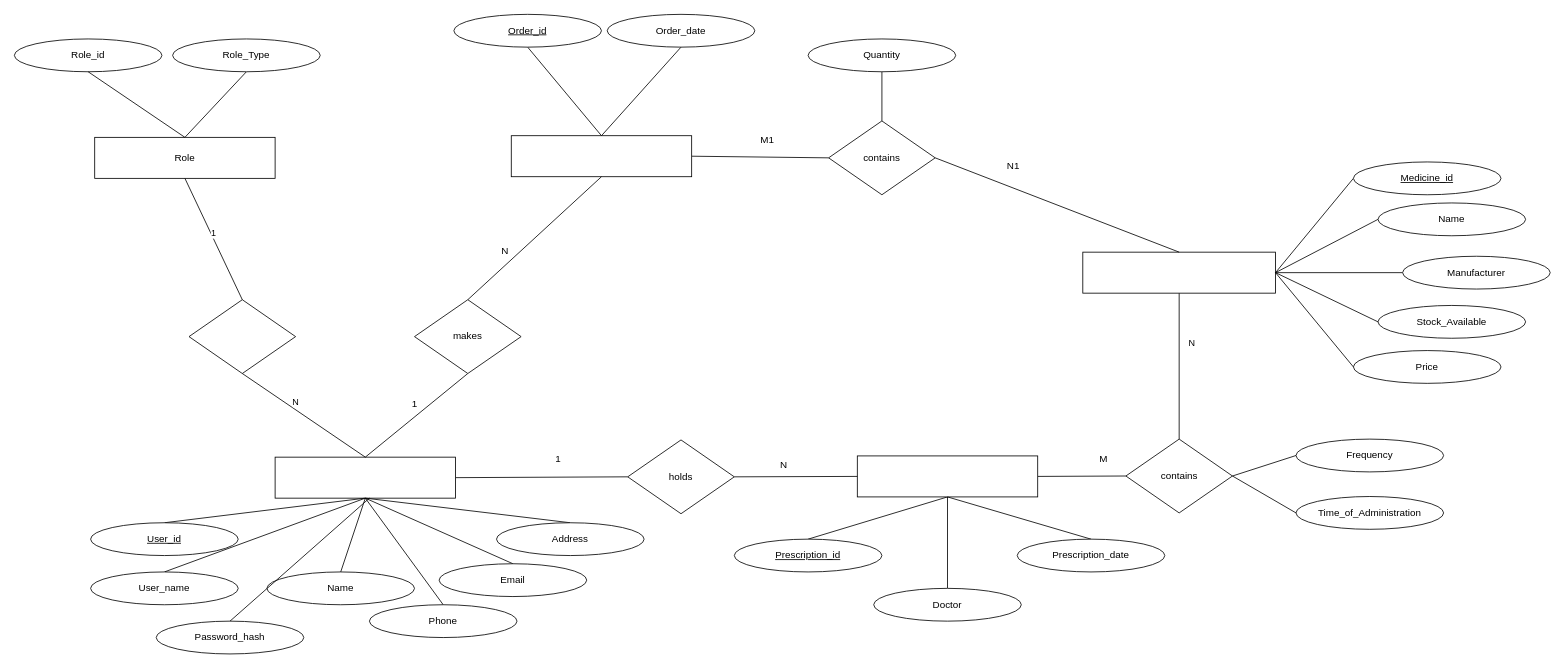
Image size: 1565x668. Some labels were removed from this diagram. The centre of each missing label's shape, as x and y in pixels:
has: pixel 242 336
Medicine: pixel 1179 272
Order: pixel 601 156
Prescriptions: pixel 947 476
User: pixel 365 477
